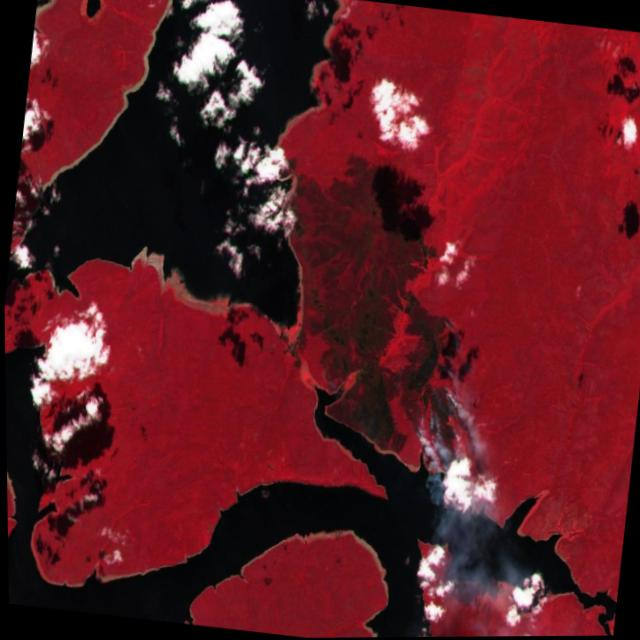fire: (377, 306, 490, 496)
